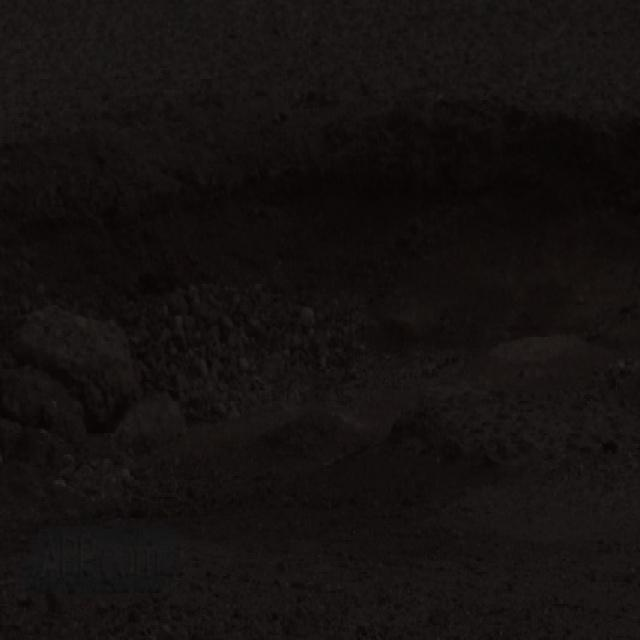Pothole: (0, 92, 639, 492)
